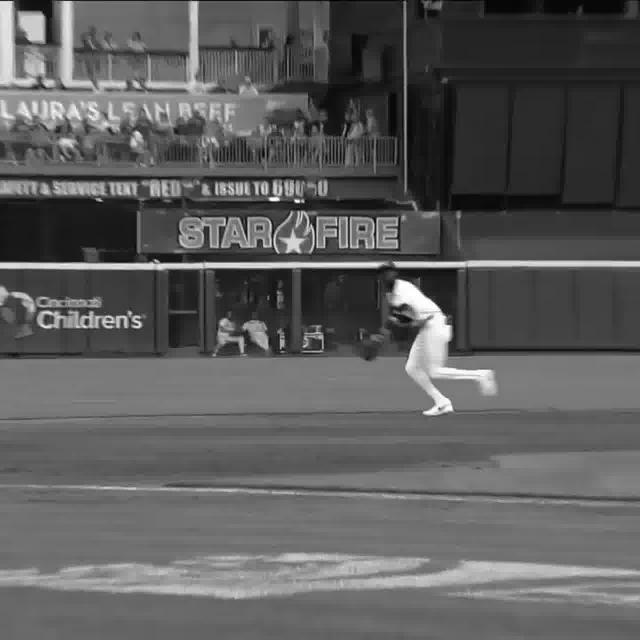baseball_glove: (355, 338, 387, 365)
shoe: (477, 370, 502, 400), (419, 399, 455, 416)
